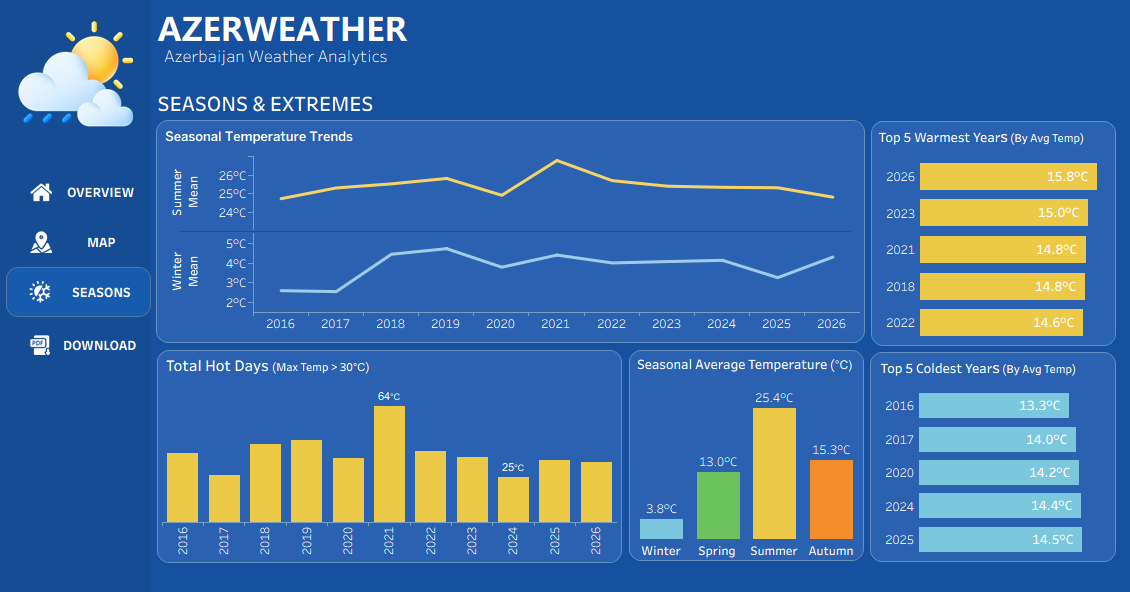

Layout of this report page (visuals, bound fields, positions):
{"tool":"tableau","page":{"name":"Dashboard 3","canvas":[1130,592],"ordinal":2},"visuals":[{"type":"image","param":"C:/Users/nergi/Downloads/weather.png","box":[0,0,151,167]},{"type":"text","box":[151,0,973,45]},{"type":"filter","title":"AVG temp season","param":"[federated.1j9qd3t01qob8y1cftrih18sft3u].[yr:date:ok]","box":[940,18,163,47]},{"type":"text","box":[151,45,973,42]},{"type":"text","box":[151,87,973,32]},{"type":"worksheet","title":"Warmest Years","mark":"Bar","rows":["date (weather.csv)"],"cols":["Calculation_0115782054653952","Calculation_0115782054653952"],"box":[869,120,248,232]},{"type":"worksheet","title":"Summer temp","mark":"Line","rows":["Calculation_0588026557861889"],"cols":["date (weather.csv)"],"box":[157,121,707,110]},{"type":"image","param":"C:/Users/nergi/Downloads/home.png","box":[6,167,50,50]},{"type":"dashboard-object","box":[56,167,95,50]},{"type":"image","param":"C:/Users/nergi/Downloads/map.png","box":[6,217,50,50]},{"type":"dashboard-object","box":[56,217,95,50]},{"type":"blank","box":[157,231,707,1]},{"type":"worksheet","title":"Winter temp","mark":"Automatic","rows":["Calculation_0588026558042114"],"cols":["date (weather.csv)"],"box":[157,232,707,110]},{"type":"image","param":"C:/Users/nergi/Downloads/season.png","box":[7,268,50,48]},{"type":"dashboard-object","box":[57,268,93,48]},{"type":"image","param":"C:/Users/nergi/Downloads/download.png","box":[6,317,48,56]},{"type":"dashboard-object","box":[54,317,97,56]},{"type":"worksheet","title":"Temp>30","mark":"Bar","rows":["Calculation_0588026594639880"],"cols":["date (weather.csv)"],"box":[156,349,468,215]},{"type":"worksheet","title":"AVG temp season","mark":"Automatic","rows":["Calculation_0115782054653952"],"cols":["Calculation_0588026551144448"],"box":[624,349,241,215]},{"type":"worksheet","title":"Coldest Years","mark":"Bar","rows":["date (weather.csv)"],"cols":["Calculation_0115782054653952","Calculation_0115782054653952"],"box":[869,352,248,212]}]}

Visuals, with their boxes in screenshot pixels (x1, y1, x2, y2), scaled from the page's 1130x592 canvas onto the 1130x592 screenshot:
image: bbox(0, 0, 151, 167)
text: bbox(151, 0, 1124, 45)
"AVG temp season" filter: bbox(940, 18, 1103, 65)
text: bbox(151, 45, 1124, 87)
text: bbox(151, 87, 1124, 119)
"Warmest Years" worksheet (Bar marks): bbox(869, 120, 1117, 352)
"Summer temp" worksheet (Line marks): bbox(157, 121, 864, 231)
image: bbox(6, 167, 56, 217)
dashboard-object: bbox(56, 167, 151, 217)
image: bbox(6, 217, 56, 267)
dashboard-object: bbox(56, 217, 151, 267)
blank: bbox(157, 231, 864, 232)
"Winter temp" worksheet: bbox(157, 232, 864, 342)
image: bbox(7, 268, 57, 316)
dashboard-object: bbox(57, 268, 150, 316)
image: bbox(6, 317, 54, 373)
dashboard-object: bbox(54, 317, 151, 373)
"Temp>30" worksheet (Bar marks): bbox(156, 349, 624, 564)
"AVG temp season" worksheet: bbox(624, 349, 865, 564)
"Coldest Years" worksheet (Bar marks): bbox(869, 352, 1117, 564)
